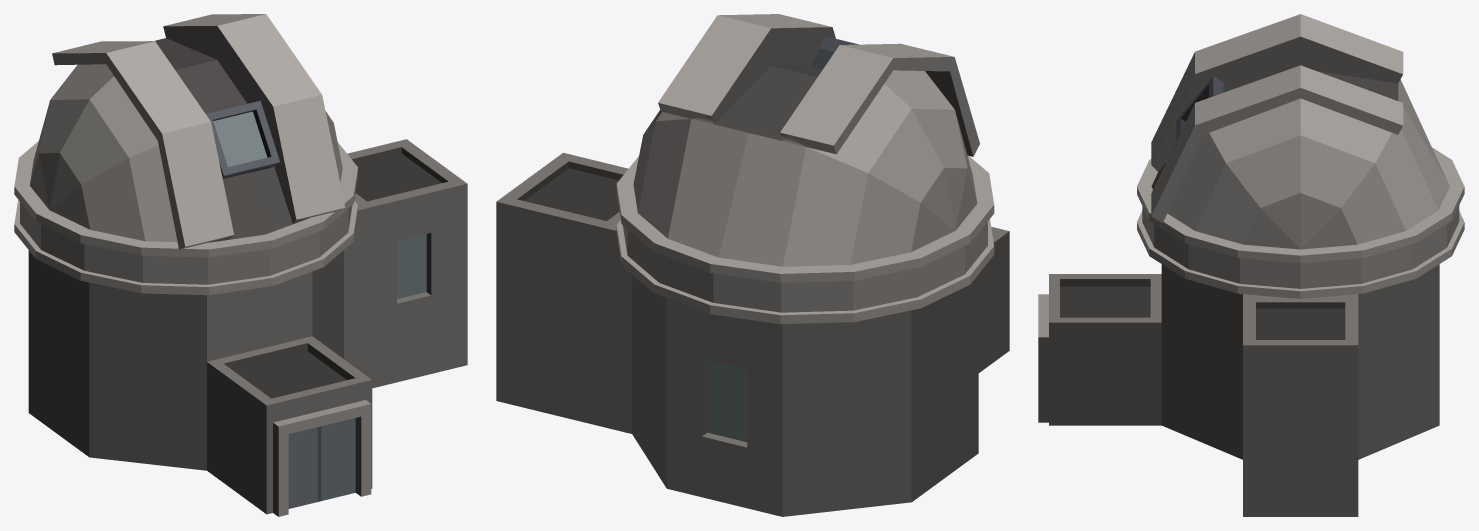
Rendered from SM_Bld_Observatory_01.fbx.
The picture shows the model from 3 angles, left to right: view 1: azimuth 30°, elevation 25°; view 2: azimuth 150°, elevation 25°; view 3: azimuth 270°, elevation 25°; orthographic projection. The views are drawn at different scales.
Parts seen in each view (by area): view 1: SM_Bld_Observatory_01; view 2: SM_Bld_Observatory_01; view 3: SM_Bld_Observatory_01.
Part boxes in pixels (x1,y1,x2,y2): SM_Bld_Observatory_01: (14, 14, 467, 516); SM_Bld_Observatory_01: (496, 14, 1009, 516); SM_Bld_Observatory_01: (1038, 14, 1464, 516).
Bounding box in the file's own units: 17.57 × 15.51 × 17.1.
